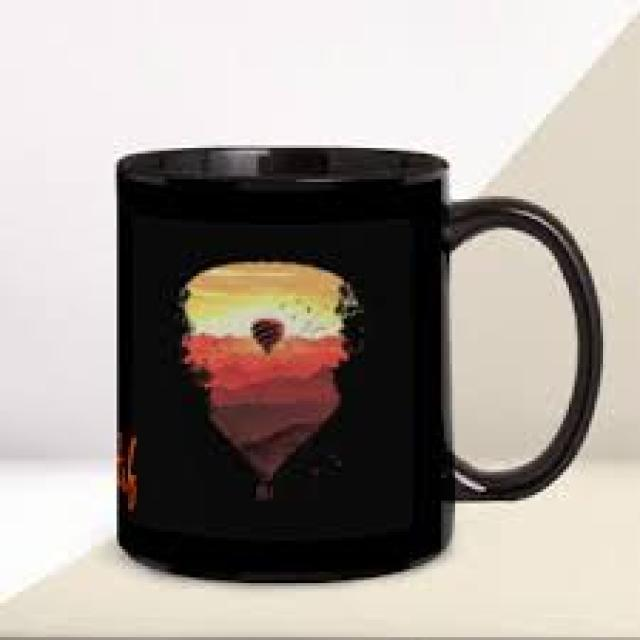taza: (116, 142, 604, 586)
